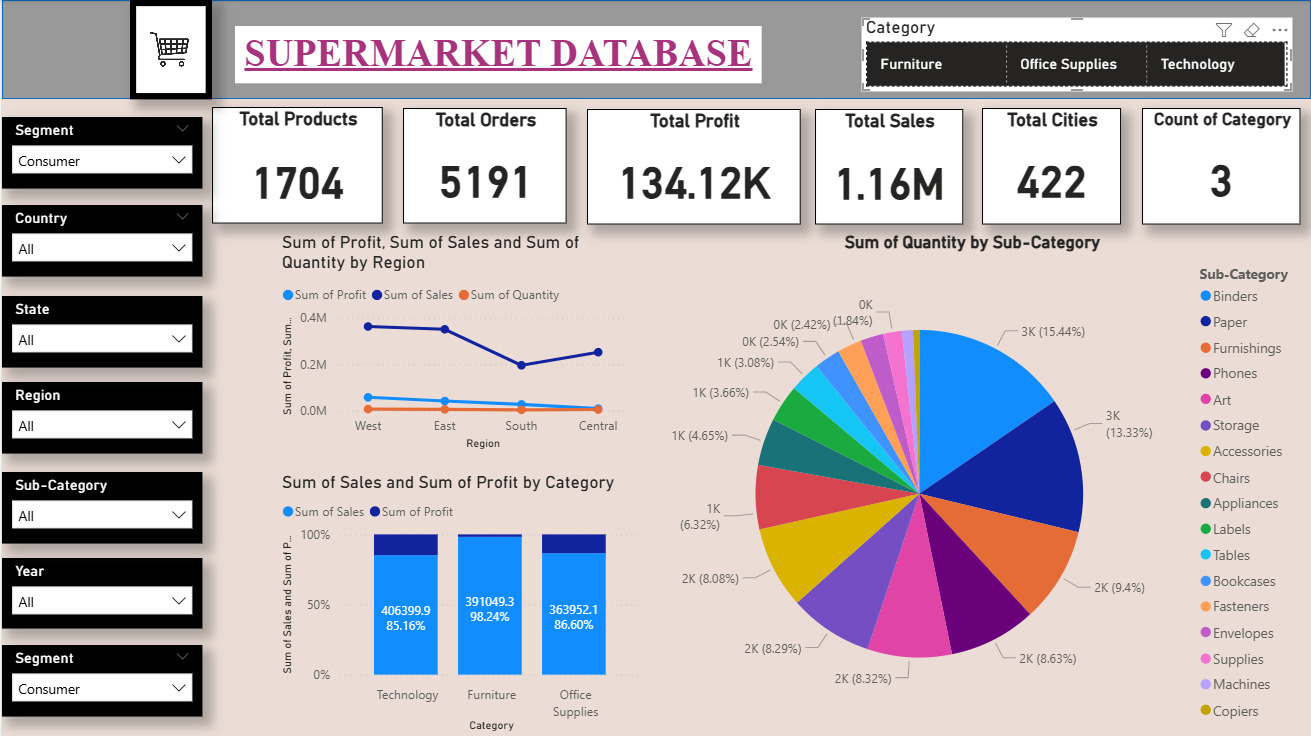

Layout of this report page (visuals, bound fields, positions):
{"tool":"powerbi","page":{"name":"Page 1","canvas":[1280,720],"ordinal":0},"visuals":[{"type":"shape","box":[0,0,1280,96.8],"z":0},{"type":"card","title":"Total Products","fields":{"Values":["Count(Sample - Superstore.Product Name)"]},"box":[205.3,104.6,167.2,114.4],"z":1000},{"type":"card","title":"Total Orders","fields":{"Values":["CountNonNull(Sample - Superstore.Order Date)"]},"box":[392.1,105.6,160.4,113.4],"z":2000},{"type":"card","title":"Total Profit","fields":{"Values":["Sum(Sample - Superstore.Profit)"]},"box":[572,106.6,209.3,113.4],"z":3000},{"type":"card","title":"Total Sales","fields":{"Values":["Sum(Sample - Superstore.Sales)"]},"box":[795,106.6,144.7,113.4],"z":4000},{"type":"card","title":"Total Cities","fields":{"Values":["Count(Sample - Superstore.City)"]},"box":[958.3,105.6,135.9,114.4],"z":5000},{"type":"card","title":"Count of Category","fields":{"Values":["Count(Sample - Superstore.Category)"]},"box":[1114.7,105.6,155.5,114.4],"z":6000},{"type":"hundredPercentStackedColumnChart","fields":{"Y":["Sum(Sample - Superstore.Sales)","Sum(Sample - Superstore.Profit)"],"Category":["Sample - Superstore.Category"]},"box":[268.9,461.5,362.8,258.2],"z":7000},{"type":"pieChart","fields":{"Category":["Sample - Superstore.Sub-Category"],"Y":["Sum(Sample - Superstore.Quantity)"]},"box":[618,226.9,662,492.8],"z":8000},{"type":"lineChart","fields":{"Category":["Sample - Superstore.Region"],"Y":["Sum(Sample - Superstore.Profit)","Sum(Sample - Superstore.Sales)","Sum(Sample - Superstore.Quantity)"]},"box":[268.9,226.9,349.1,217.1],"z":9000},{"type":"advancedSlicerVisual","fields":{"Values":["Sample - Superstore.Category"]},"box":[841.9,8.8,415.6,80.2],"z":10000},{"type":"slicer","fields":{"Values":["Sample - Superstore.Segment"]},"box":[0,114.4,195.6,70.4],"z":11000},{"type":"slicer","fields":{"Values":["Sample - Superstore.Region"]},"box":[0,373.5,195.6,70.4],"z":12000},{"type":"slicer","fields":{"Values":["Sample - Superstore.Country"]},"box":[0,200.5,195.6,70.4],"z":13000},{"type":"slicer","fields":{"Values":["Sample - Superstore.Year"]},"box":[0,545.6,195.6,69.4],"z":14000},{"type":"slicer","fields":{"Values":["Sample - Superstore.Sub-Category"]},"box":[0,461.5,195.6,70.4],"z":15000},{"type":"slicer","fields":{"Values":["Sample - Superstore.Segment"]},"box":[0,630.7,195.6,70.4],"z":16000},{"type":"slicer","fields":{"Values":["Sample - Superstore.State"]},"box":[0,289.4,195.6,70.4],"z":17000},{"type":"textbox","box":[279.7,20.5,515.3,55.7],"z":18000},{"type":"image","box":[125.2,0,80.2,96.8],"z":19000}]}

Visuals, with their boxes in screenshot pixels (x1, y1, x2, y2), scaled from the page's 1280x720 canvas onto the 1311x736 screenshot:
shape: [0,0,1310,99]
"Total Products" card: [210,107,382,224]
"Total Orders" card: [402,108,566,224]
"Total Profit" card: [586,109,800,225]
"Total Sales" card: [814,109,962,225]
"Total Cities" card: [982,108,1121,225]
"Count of Category" card: [1142,108,1301,225]
hundredPercentStackedColumnChart - Sum(Sample - Superstore.Sales) x Sum(Sample - Superstore.Profit): [275,472,647,735]
pieChart - Sample - Superstore.Sub-Category x Sum(Sample - Superstore.Quantity): [633,232,1310,735]
lineChart - Sample - Superstore.Region x Sum(Sample - Superstore.Profit): [275,232,633,454]
advancedSlicerVisual - Sample - Superstore.Category: [862,9,1288,91]
slicer - Sample - Superstore.Segment: [0,117,200,189]
slicer - Sample - Superstore.Region: [0,382,200,454]
slicer - Sample - Superstore.Country: [0,205,200,277]
slicer - Sample - Superstore.Year: [0,558,200,629]
slicer - Sample - Superstore.Sub-Category: [0,472,200,544]
slicer - Sample - Superstore.Segment: [0,645,200,717]
slicer - Sample - Superstore.State: [0,296,200,368]
textbox: [286,21,814,78]
image: [128,0,210,99]
